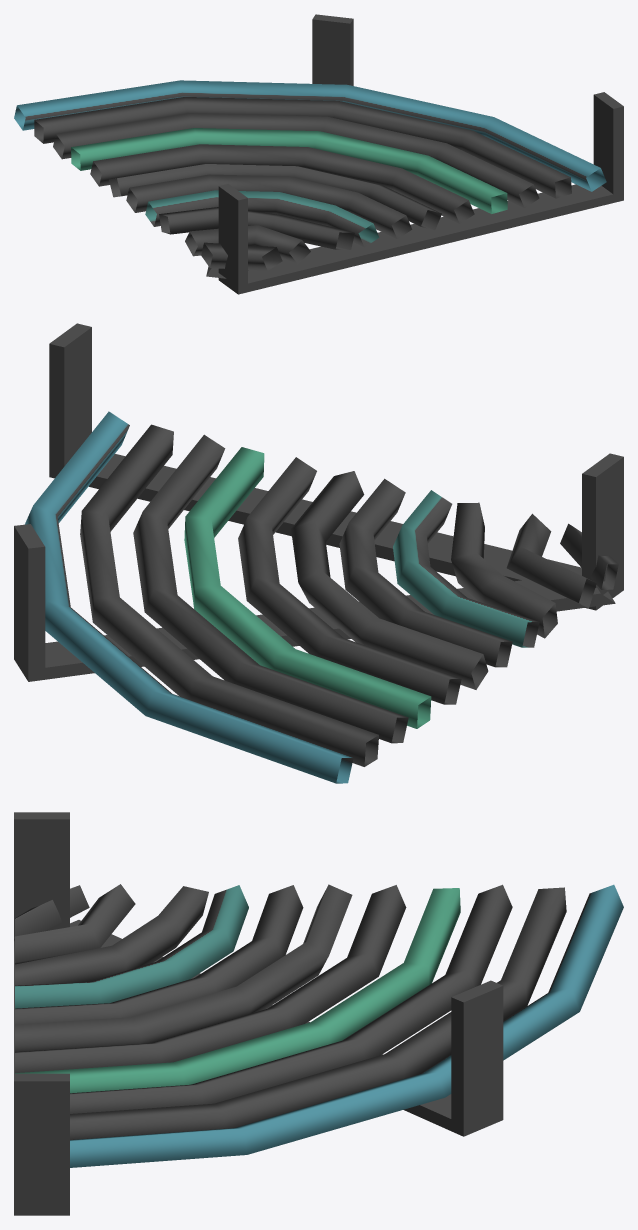
Rendered from Cables_Corner_1x1.fbx.
The picture shows the model from 3 angles, top to bottom: view 1: azimuth 30°, elevation 25°; view 2: azimuth 150°, elevation 25°; view 3: azimuth 270°, elevation 25°; orthographic projection. The views are drawn at different scales.
Parts seen in each view (by area): view 1: Cables_Corner_1x1; view 2: Cables_Corner_1x1; view 3: Cables_Corner_1x1.
Boxes of the visible parts, x1,y1,x2,y2 form: Cables_Corner_1x1: (14,14,623,294); Cables_Corner_1x1: (14,323,623,783); Cables_Corner_1x1: (14,812,623,1215).
Size of the model in its own units: 103 by 23.31 by 95.92.
